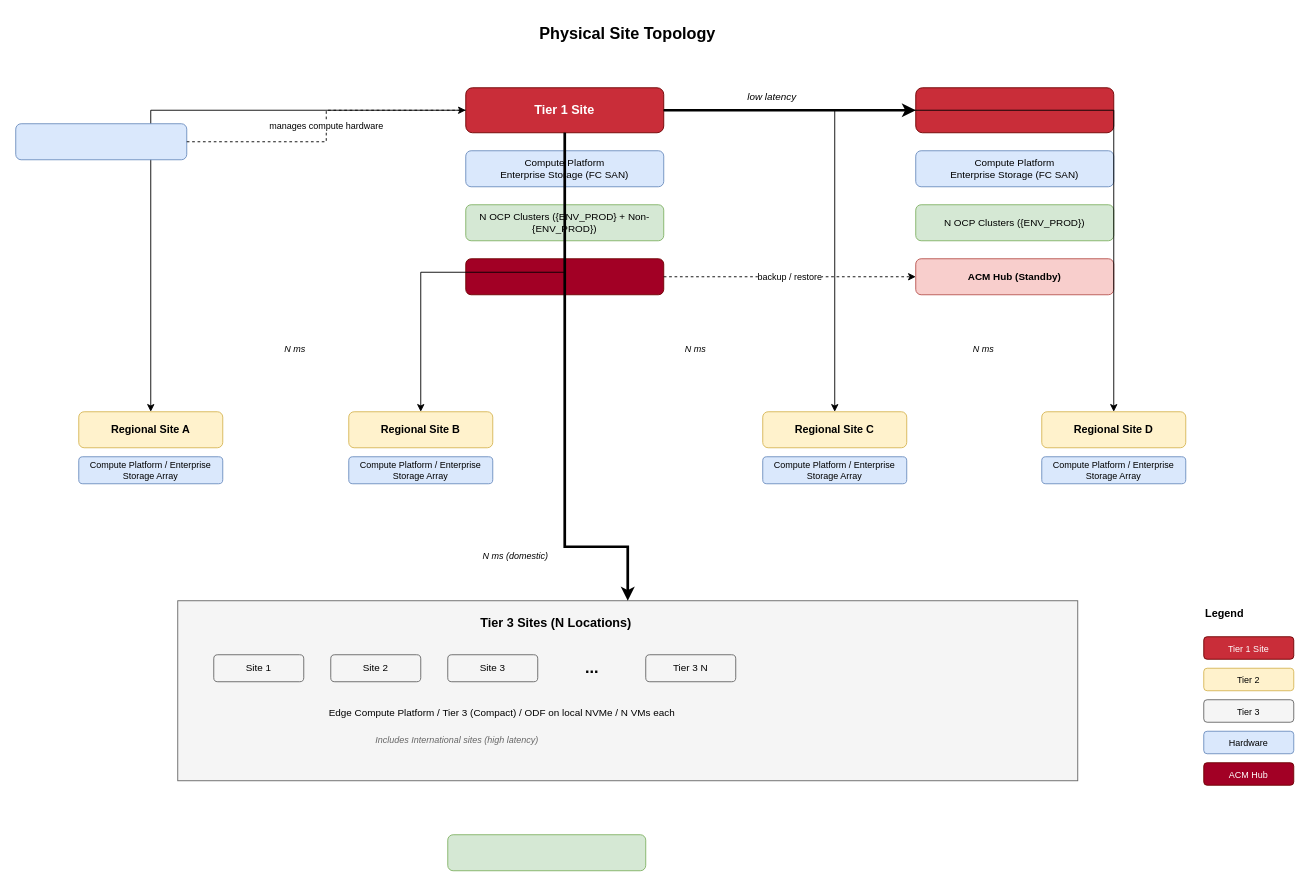
Some shapes in this 1310 by 887 pixel diagram are drawn without their labels. Each missing label, with the centre of its shape:
ACM Hub (Primary): point 564,276
Tier 2 Site DC: point 1014,110
Total Managed: N clusters: point 546,852
{HW_MGMT_PLATFORM}: point 101,141
